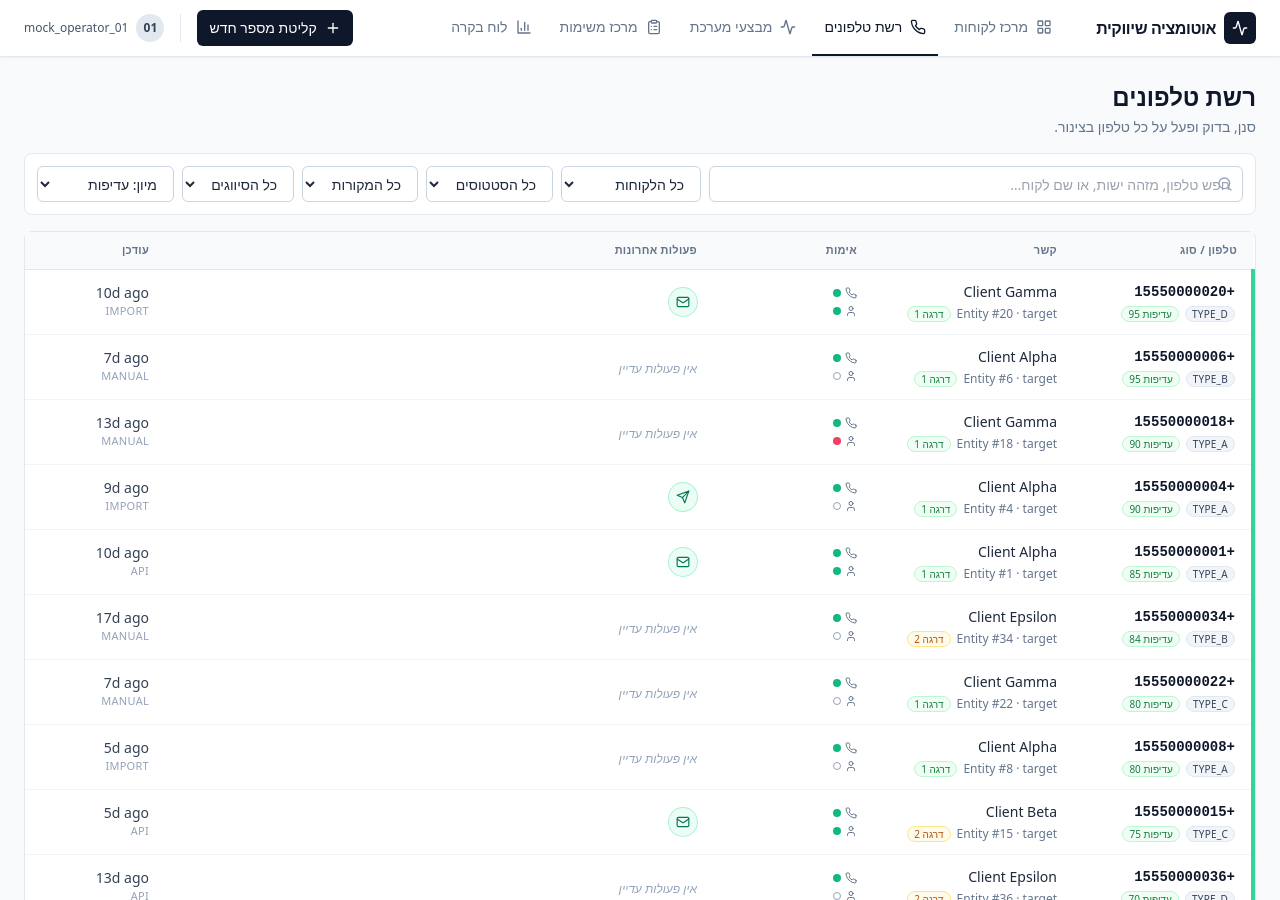
it: Phase DY-4-C — Vector A verdict form › submit with no selection shows the "select at least one" toast
Expected: the heading "רשת טלפונים" is shown, [1112,80,1256,113]
What coordinates should you click on to do the following:
click the text "+15550000020"
I would click on:
 (1185, 292)
Its box is [1134,284,1235,300].
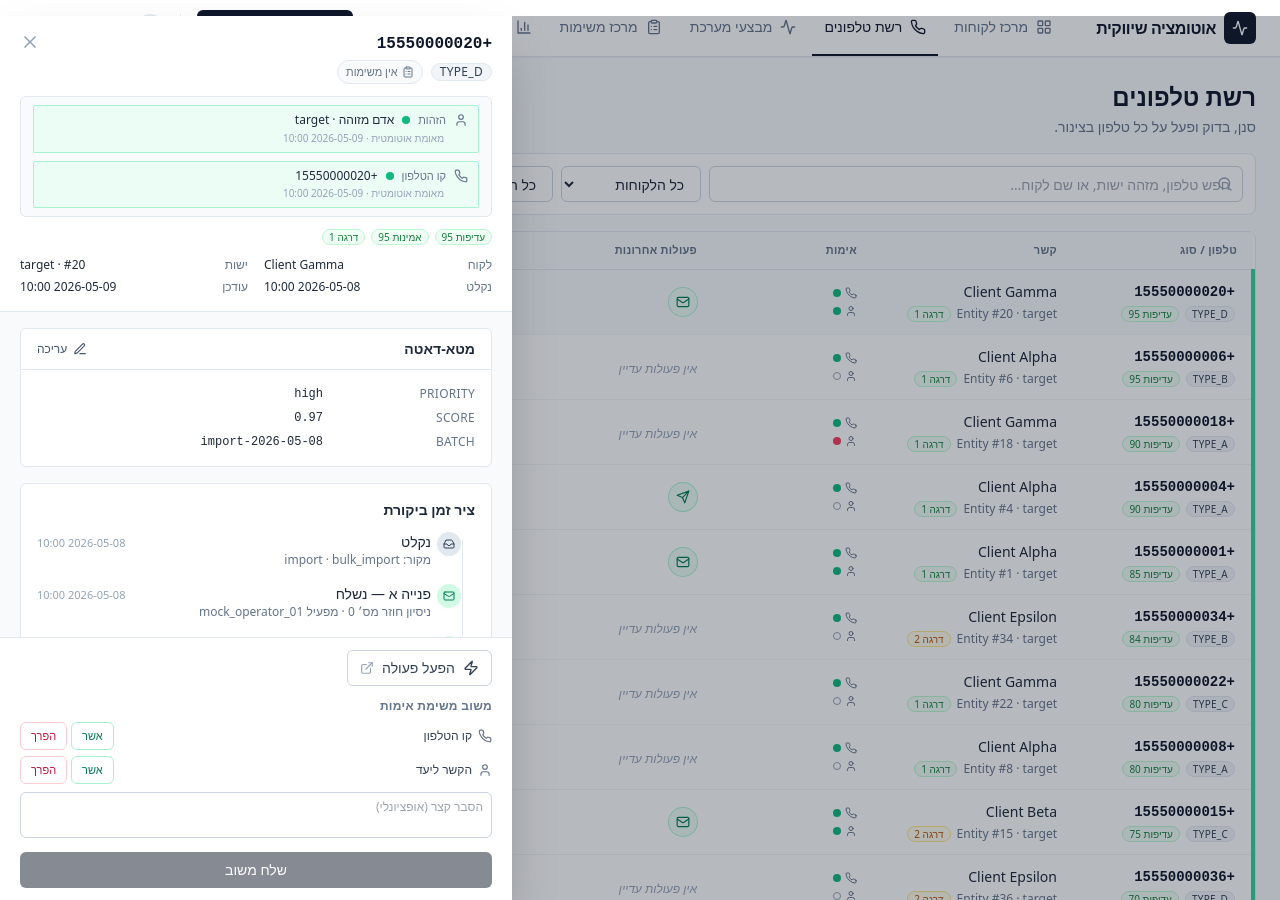
Result: the button "שלח משוב" is disabled at [20,852,492,888]
